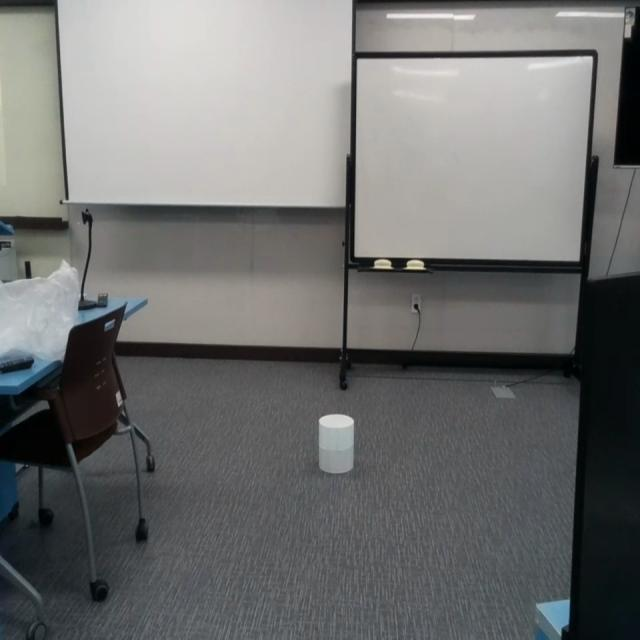cylinder: (318, 413, 355, 475)
